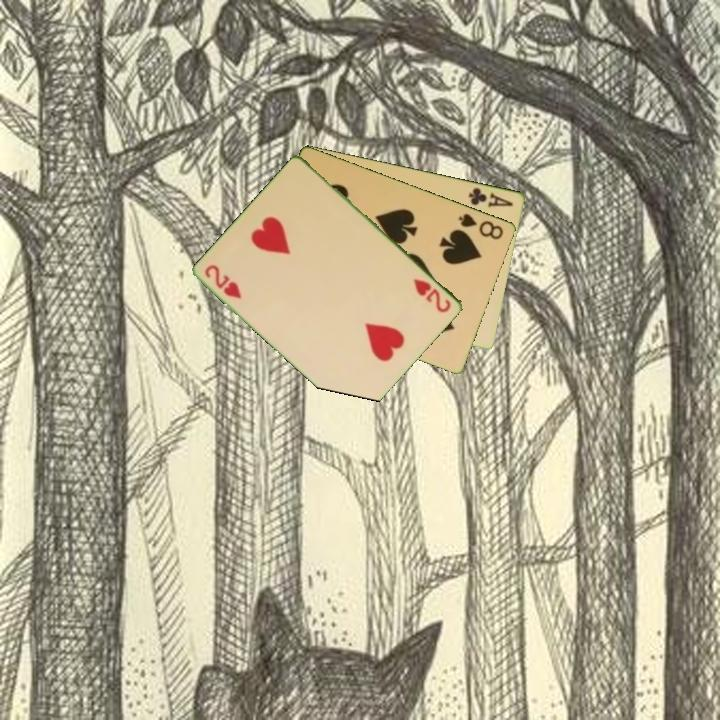2h: (410, 275, 454, 316), (201, 261, 244, 302)
8s: (455, 210, 507, 242)
Ac: (465, 184, 516, 210)
